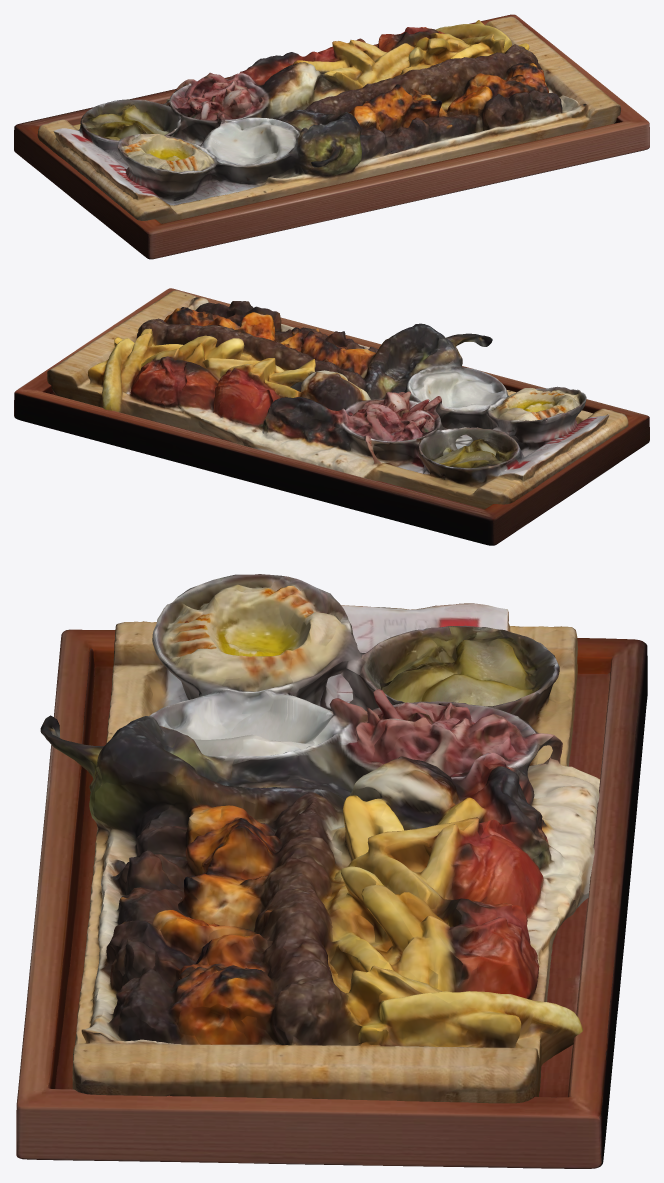
Rendered from Mixed.Grill.Platter.glb.
3 views of the same model, one above another, from view 1: azimuth 30°, elevation 25°; view 2: azimuth 150°, elevation 25°; view 3: azimuth 270°, elevation 25° (orthographic). The views are drawn at different scales.
Visible parts, largest first — view 1: /Root/Scenes/Scene/Object_56/Object_57/Submesh_0, /Root/Scenes/Scene/Object_56/Object_60/Object_61/Submesh_0; view 2: /Root/Scenes/Scene/Object_56/Object_57/Submesh_0, /Root/Scenes/Scene/Object_56/Object_60/Object_61/Submesh_0; view 3: /Root/Scenes/Scene/Object_56/Object_57/Submesh_0, /Root/Scenes/Scene/Object_56/Object_60/Object_61/Submesh_0.
Part boxes in pixels (box(x1,y1,x2,y2)): /Root/Scenes/Scene/Object_56/Object_57/Submesh_0: box(37, 16, 620, 223); /Root/Scenes/Scene/Object_56/Object_60/Object_61/Submesh_0: box(14, 14, 649, 259); /Root/Scenes/Scene/Object_56/Object_57/Submesh_0: box(47, 290, 628, 509); /Root/Scenes/Scene/Object_56/Object_60/Object_61/Submesh_0: box(14, 288, 649, 545); /Root/Scenes/Scene/Object_56/Object_57/Submesh_0: box(40, 574, 600, 1103); /Root/Scenes/Scene/Object_56/Object_60/Object_61/Submesh_0: box(16, 629, 647, 1168).
Size of the model in its own units: 0.402 by 0.0603 by 0.2197.
Materials: 2 (2 with a texture image).
